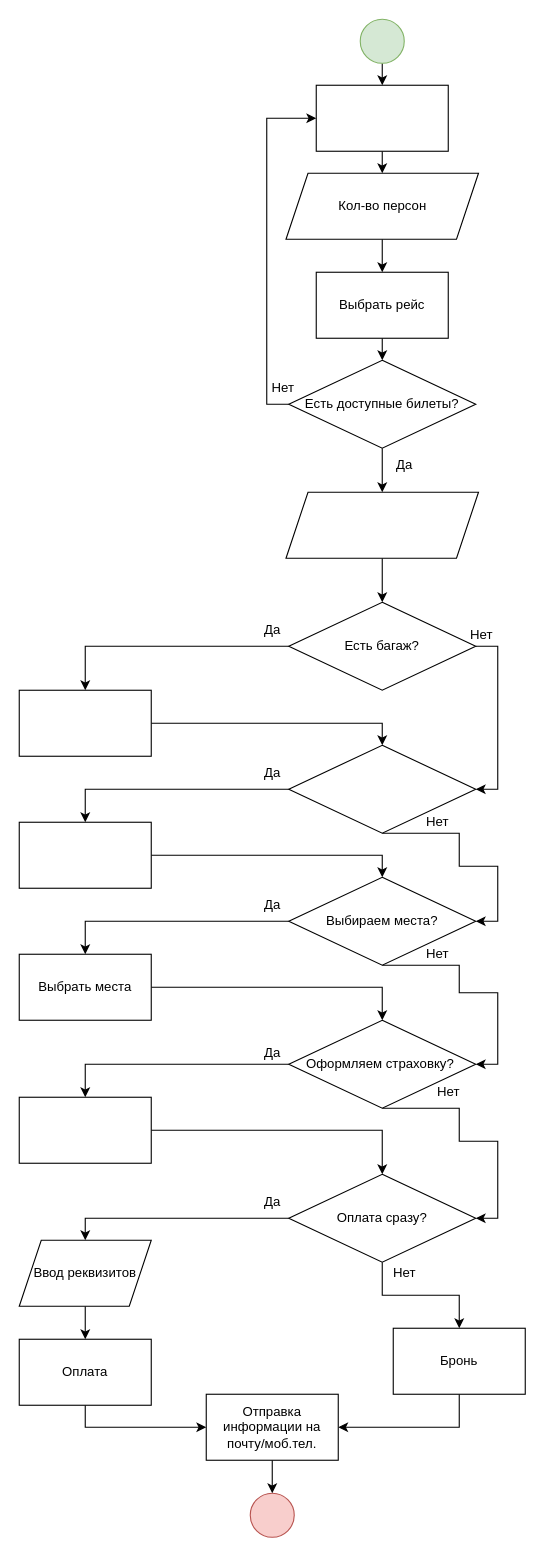
Some shapes in this 545 by 1557 pixel diagram are drawn without their labels. The box of each missing label's shape, as (x1, y1, x2, y2) in pixels:
Вводим данные пассажиров: (285, 491, 479, 558)
Включаем питание?: (288, 744, 476, 833)
Выбрать вместительность багажа: (18, 689, 151, 756)
Выбрать направление и даты: (315, 84, 448, 151)
Выбрать питание: (18, 821, 151, 888)
Оформление страховки: (18, 1096, 151, 1163)
